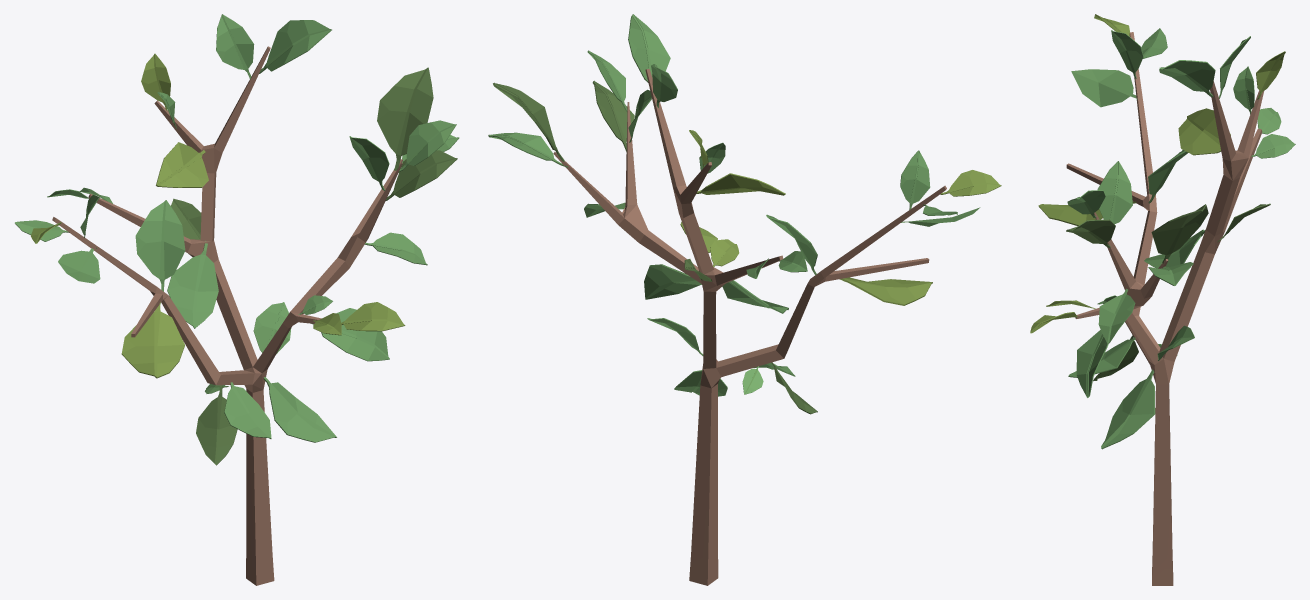
File: JerukTahap3withoutFruit.fbx
3 renders of one model, left to right at view 1: azimuth 30°, elevation 25°; view 2: azimuth 150°, elevation 25°; view 3: azimuth 270°, elevation 25°, orthographic. The views are drawn at different scales.
Parts seen in each view (by area): view 1: jeruk3.002; view 2: jeruk3.002; view 3: jeruk3.002.
Part boxes in pixels (box(x1,y1,x2,y2)): jeruk3.002: box(15, 14, 459, 585); jeruk3.002: box(488, 14, 1001, 585); jeruk3.002: box(1030, 14, 1295, 585).
Size of the model in its own units: 97.04 by 108 by 46.95.
